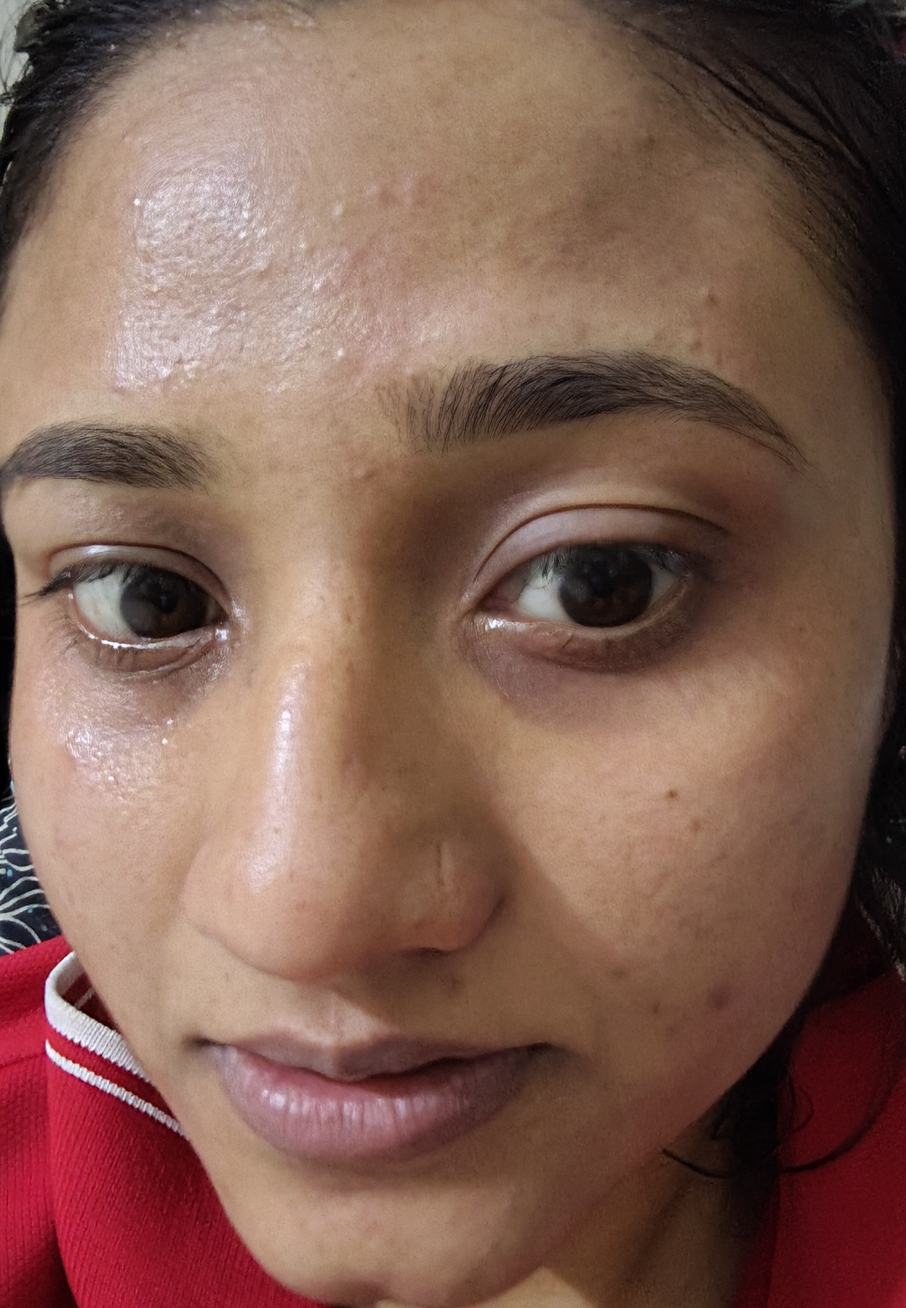closed_comedone: (365, 166, 477, 248), (47, 714, 136, 813), (319, 343, 397, 399), (693, 971, 747, 1049), (304, 252, 365, 315)
